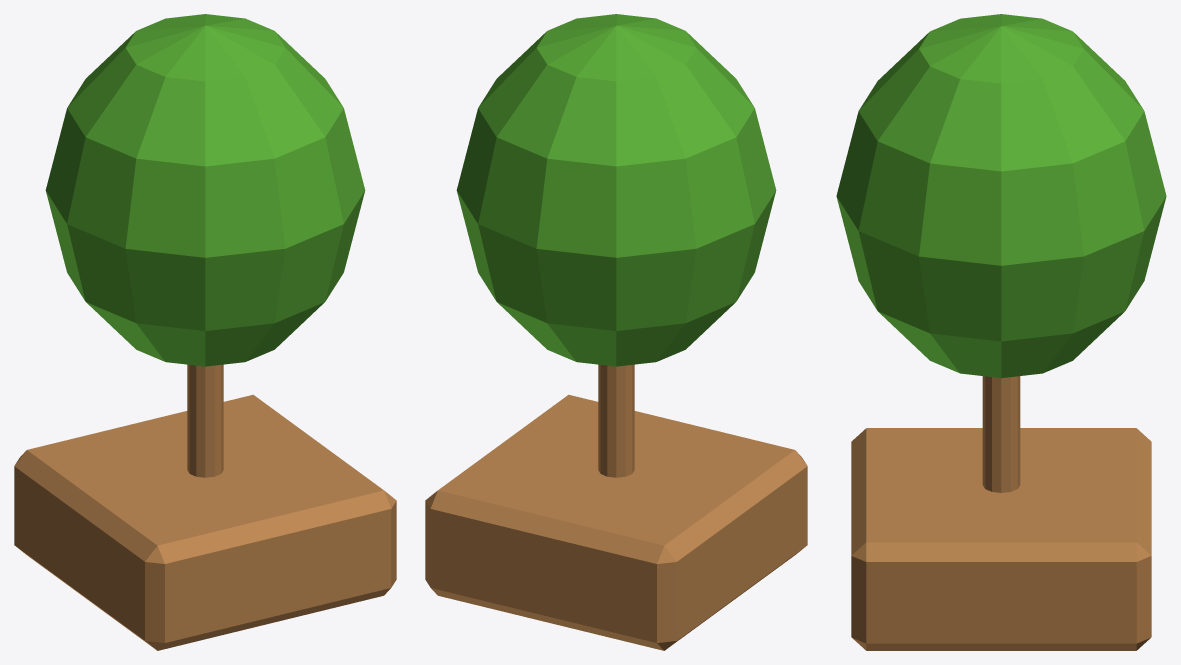
File: tree.glb
The picture shows the model from 3 angles, left to right: view 1: azimuth 30°, elevation 25°; view 2: azimuth 150°, elevation 25°; view 3: azimuth 270°, elevation 25°; orthographic projection. The views are drawn at different scales.
Visible parts, largest first — view 1: tree; view 2: tree; view 3: tree.
Part boxes in pixels (box(x1,y1,x2,y2)): tree: box(14, 14, 396, 650); tree: box(425, 14, 807, 650); tree: box(836, 14, 1166, 650).
Size of the model in its own units: 0.88 by 1.67 by 0.88.
